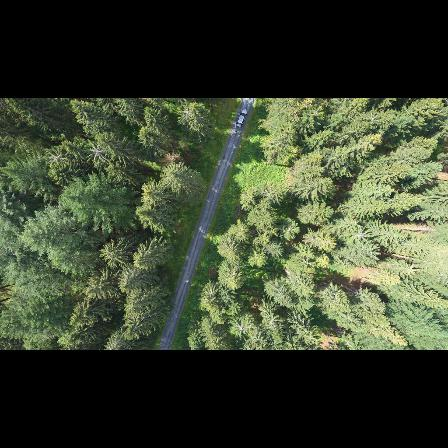Sick: (46, 146, 71, 170), (87, 139, 108, 165), (349, 224, 372, 246), (232, 315, 251, 340), (262, 312, 281, 333)
